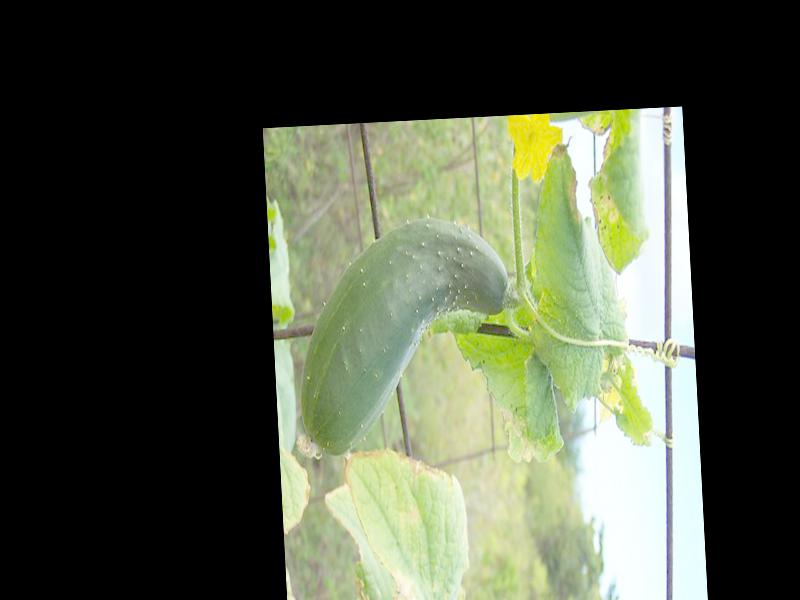Cucumber: (291, 216, 519, 460)
